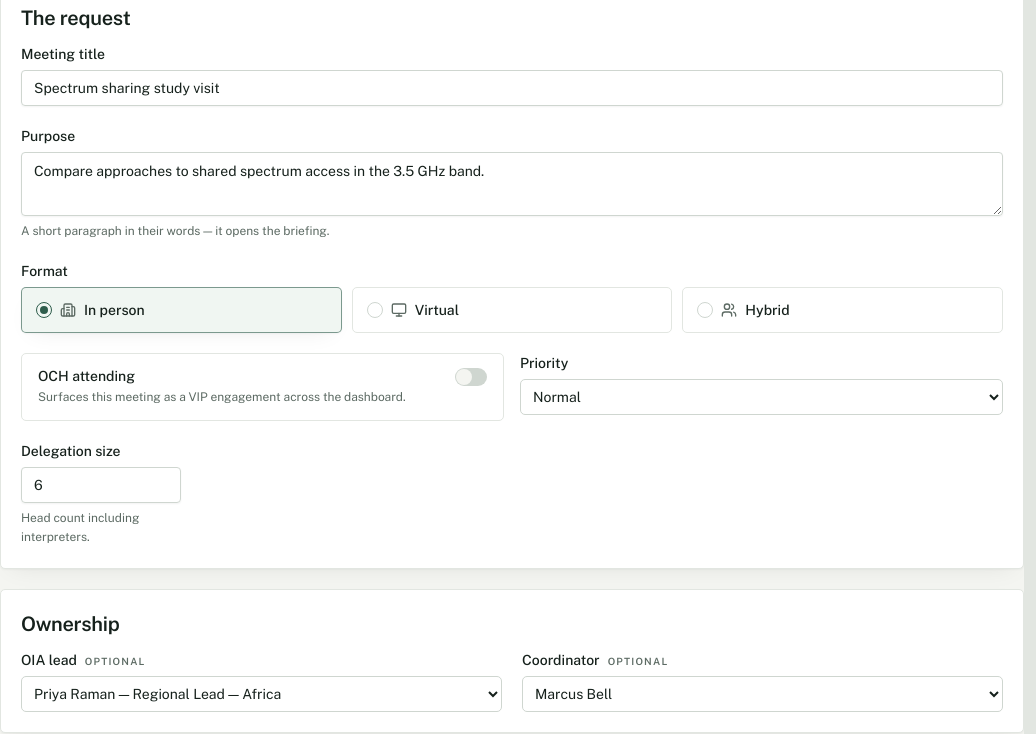
Test: EditMeetingForm › blocks submit on a too-short title, with an inline message
Replace the text in the field labelled "Meeting title" with "A": (512, 88) [21,70,1003,106]
(page scrolled)
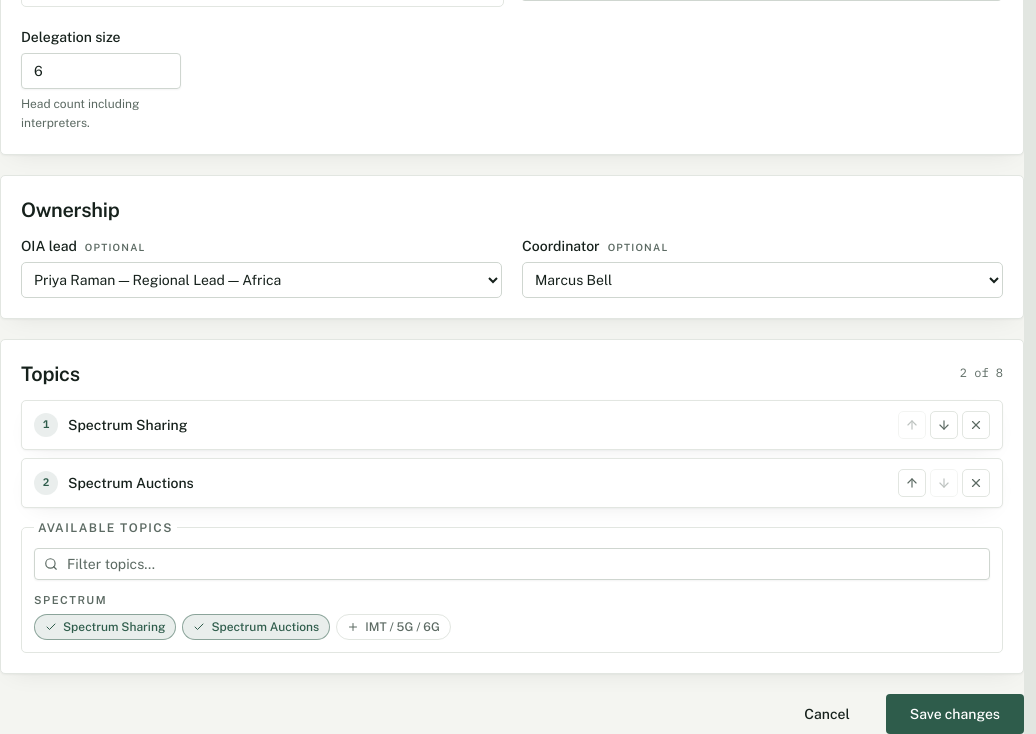
Click the button "Save changes": click(955, 714) [886,694,1024,733]
(page scrolled)
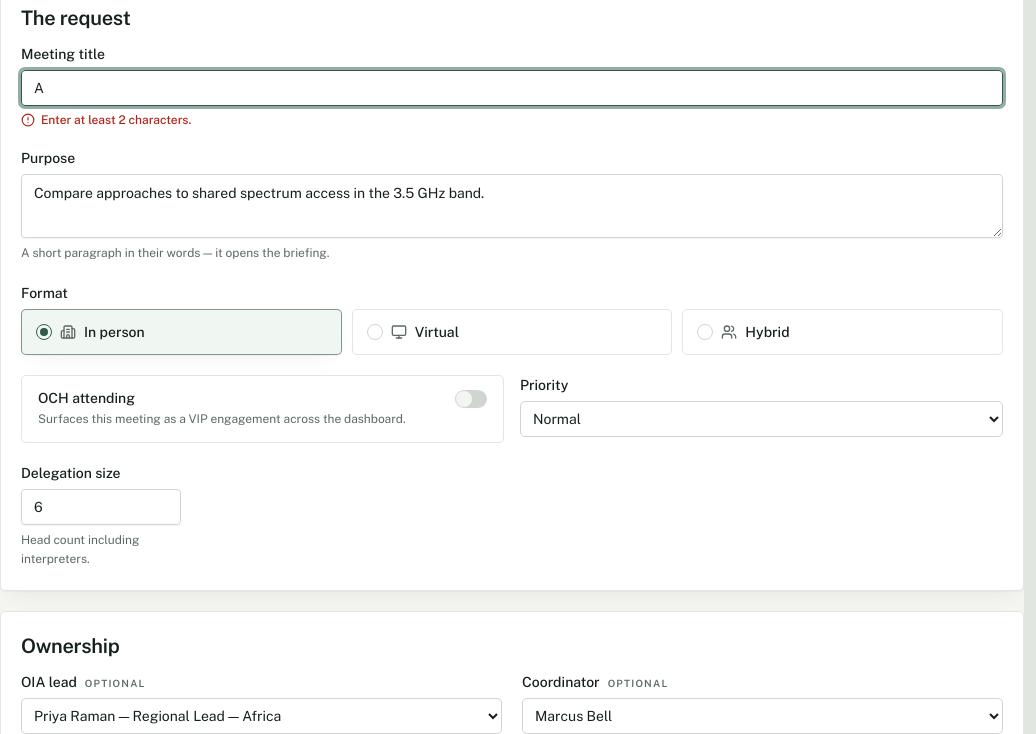
Now the text "Enter at least 2 characters." is shown, box [41,112,191,128]
